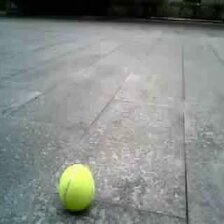tennis: (61, 165, 93, 208)
